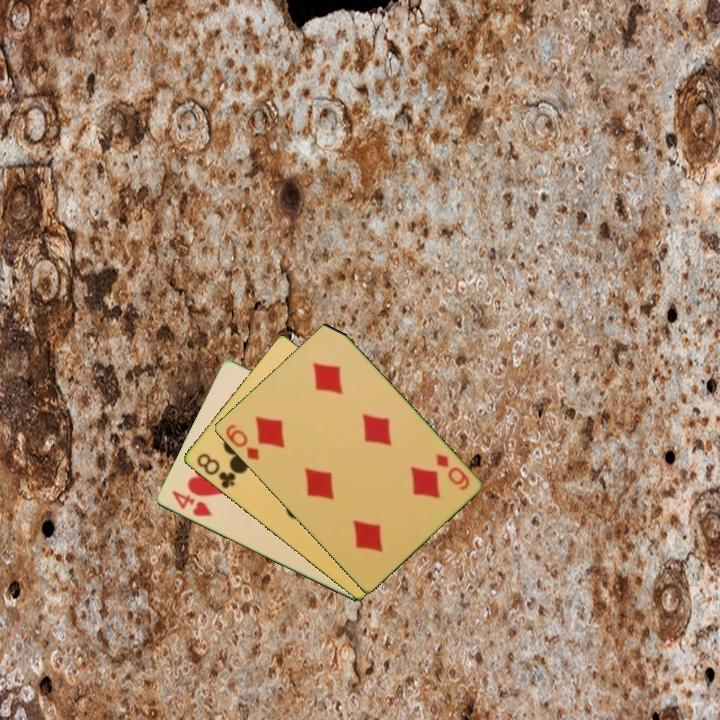4h: (168, 487, 215, 520)
6d: (222, 420, 262, 463), (432, 450, 472, 493)
8c: (193, 449, 238, 492)
